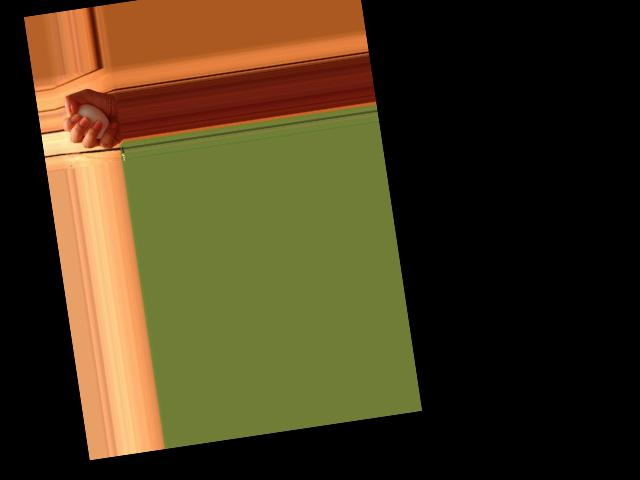egg: (73, 101, 111, 142)
